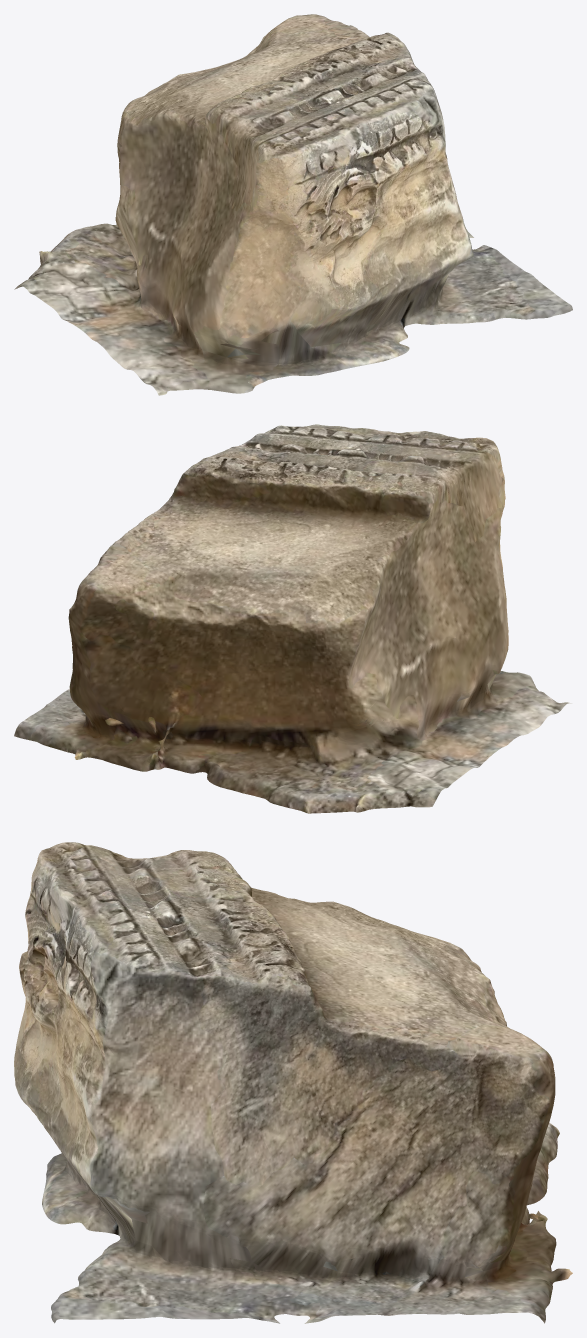
File: zaghouan-relief.glb
The picture shows the model from 3 angles, top to bottom: view 1: azimuth 30°, elevation 25°; view 2: azimuth 150°, elevation 25°; view 3: azimuth 270°, elevation 25°; orthographic projection. The views are drawn at different scales.
Parts seen in each view (by area): view 1: Object_2; view 2: Object_2; view 3: Object_2.
Boxes of the visible parts, bbox=[...] form: Object_2: bbox=[14, 14, 572, 395]; Object_2: bbox=[14, 424, 571, 813]; Object_2: bbox=[14, 842, 572, 1323].
Bounding box in the file's own units: 0.7558 × 0.4239 × 0.7267.
Materials: 1 (1 with a texture image).
